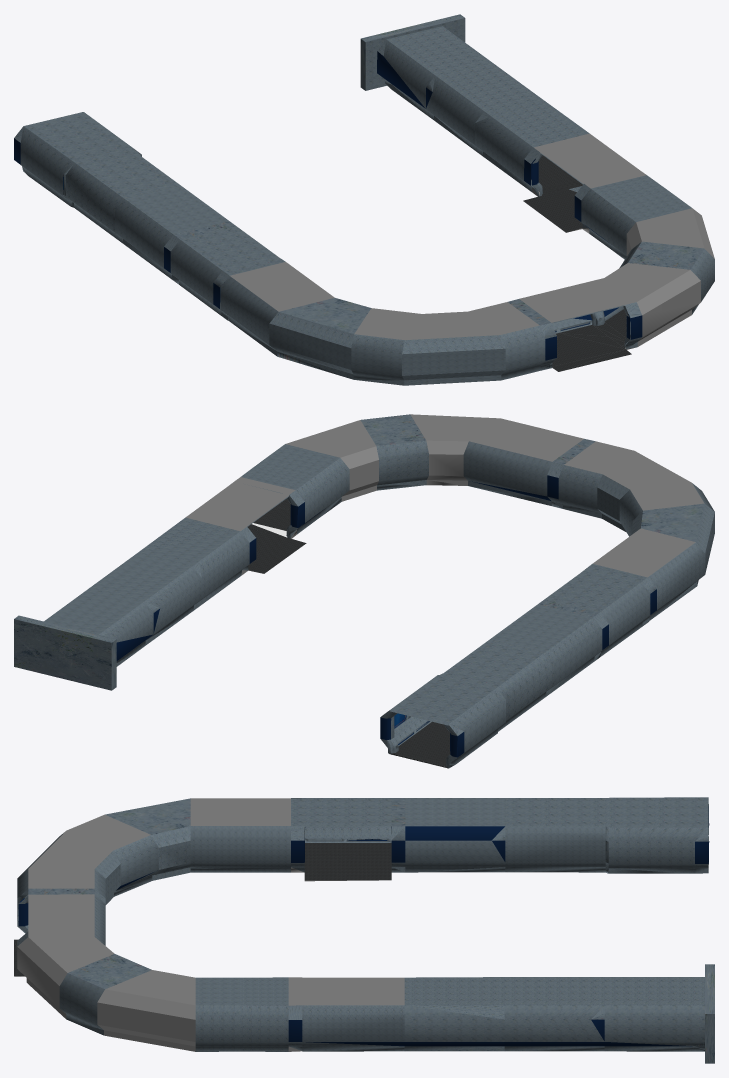
Rendered from pasillo_1.obj.
3 views of the same model, one above another, from view 1: azimuth 30°, elevation 25°; view 2: azimuth 150°, elevation 25°; view 3: azimuth 270°, elevation 25° (orthographic). The views are drawn at different scales.
Parts seen in each view (by area): view 1: pCube24; view 2: pCube24; view 3: pCube24.
Part boxes in pixels (x1=…): pCube24: x1=14, y1=14, x2=714, y2=385; pCube24: x1=14, y1=414, x2=714, y2=768; pCube24: x1=14, y1=797, x2=714, y2=1063.
Size of the model in its own units: 176 by 18.28 by 233.
